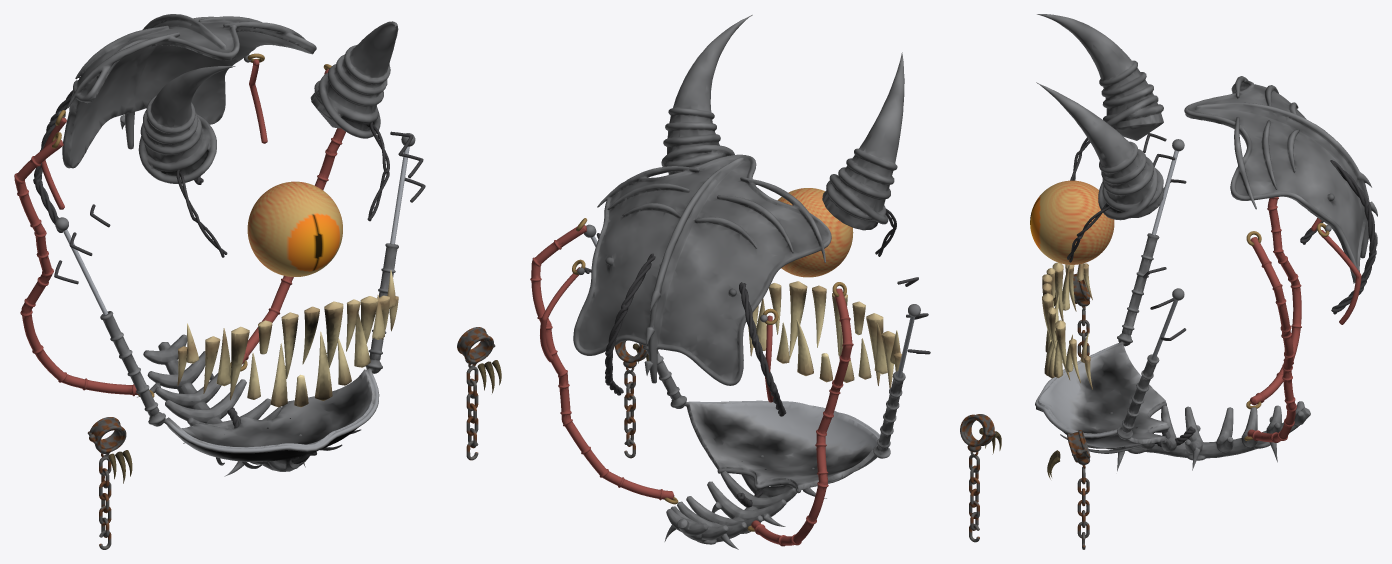
File: teratoma-parts.glb
The picture shows the model from 3 angles, left to right: view 1: azimuth 30°, elevation 25°; view 2: azimuth 150°, elevation 25°; view 3: azimuth 270°, elevation 25°; orthographic projection. The views are drawn at different scales.
Parts seen in each view (by area): view 1: pelvis|cap, pelvis|jaw, pelvis|teeth, pelvis|eye, pelvis|hoses, pelvis|keel, pelvis|cables, pelvis|rods, foreArm.l|shackle, foreArm.r|shackle, foreArm.l|chain, foreArm.r|chain; view 2: pelvis|cap, pelvis|jaw, pelvis|hoses, pelvis|teeth, pelvis|keel, pelvis|cables, pelvis|eye, foreArm.r|shackle, foreArm.l|chain, foreArm.r|chain, pelvis|ferrules; view 3: pelvis|cap, pelvis|jaw, pelvis|eye, pelvis|hoses, pelvis|keel, pelvis|teeth, pelvis|cables, pelvis|rods, foreArm.l|chain, foreArm.l|shackle.
Boxes of the visible parts, box(x1,y1,x2,y2) form: pelvis|cap: box(57, 14, 398, 183); pelvis|jaw: box(55, 133, 415, 468); pelvis|teeth: box(177, 270, 398, 407); pelvis|eye: box(247, 181, 342, 276); pelvis|hoses: box(14, 59, 345, 396); pelvis|keel: box(137, 334, 309, 476); pelvis|cables: box(33, 90, 425, 428); pelvis|rods: box(63, 146, 409, 315); foreArm.l|shackle: box(457, 327, 495, 364); foreArm.r|shackle: box(87, 417, 126, 454); foreArm.l|chain: box(466, 363, 478, 460); foreArm.r|chain: box(99, 453, 111, 549); pelvis|cap: box(573, 15, 904, 385); pelvis|jaw: box(583, 224, 920, 493); pelvis|hoses: box(530, 225, 853, 546); pelvis|teeth: box(748, 281, 901, 388); pelvis|keel: box(664, 455, 826, 549); pelvis|cables: box(584, 208, 930, 507); pelvis|eye: box(777, 188, 853, 277); foreArm.r|shackle: box(960, 414, 995, 452); foreArm.l|chain: box(624, 367, 635, 458); foreArm.r|chain: box(969, 452, 979, 542); pelvis|ferrules: box(572, 218, 846, 531); pelvis|cap: box(1036, 14, 1377, 283); pelvis|jaw: box(1035, 139, 1184, 453); pelvis|eye: box(1030, 180, 1114, 264); pelvis|hoses: box(1247, 197, 1361, 442); pelvis|keel: box(1106, 401, 1310, 471); pelvis|teeth: box(1042, 262, 1092, 389); pelvis|cables: box(1067, 133, 1376, 446); pelvis|rods: box(1151, 150, 1178, 359); foreArm.l|chain: box(1077, 465, 1089, 549); foreArm.l|shackle: box(1067, 430, 1090, 464).
Size of the model in its own units: 1.32 by 1.49 by 1.11.
